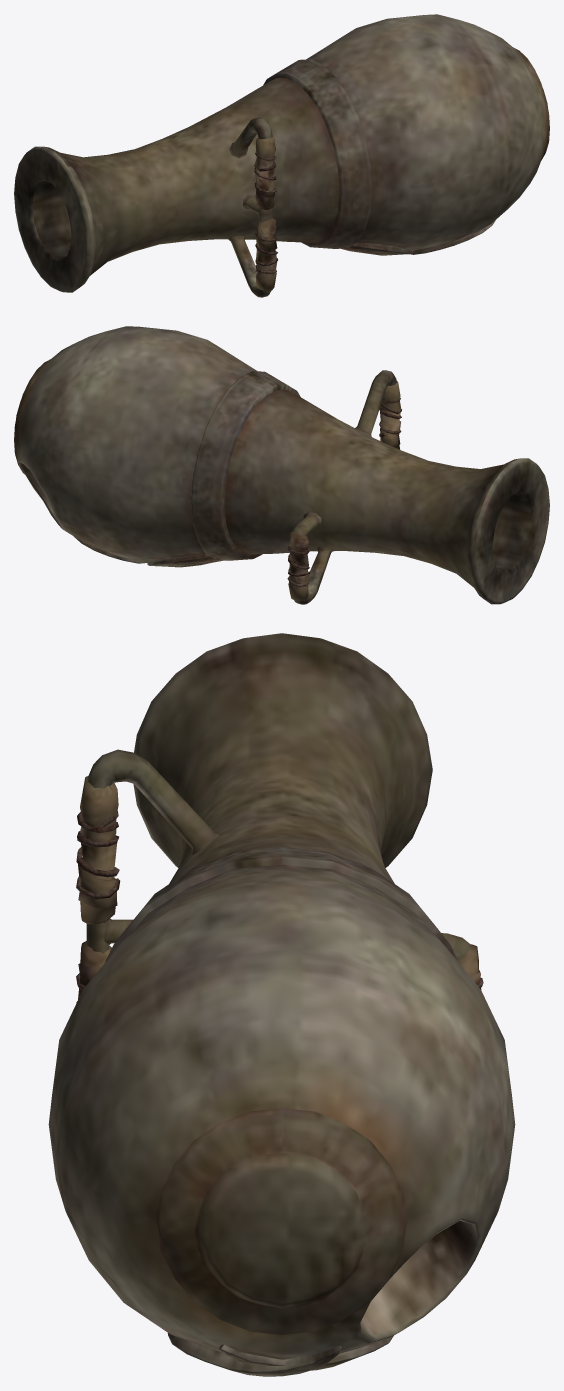
The model's file is weapon-wp_a_1511.glb.
The picture shows the model from 3 angles, top to bottom: view 1: azimuth 30°, elevation 25°; view 2: azimuth 150°, elevation 25°; view 3: azimuth 270°, elevation 25°; orthographic projection. The views are drawn at different scales.
Visible parts, largest first — view 1: wp_a_1511_mesh; view 2: wp_a_1511_mesh; view 3: wp_a_1511_mesh.
Part boxes in pixels (x1=…): wp_a_1511_mesh: x1=14, y1=14, x2=549, y2=297; wp_a_1511_mesh: x1=14, y1=326, x2=549, y2=604; wp_a_1511_mesh: x1=48, y1=633, x2=515, y2=1376.
Size of the model in its own units: 0.9511 by 0.411 by 0.3976.
Materials: 1 (1 with a texture image).
